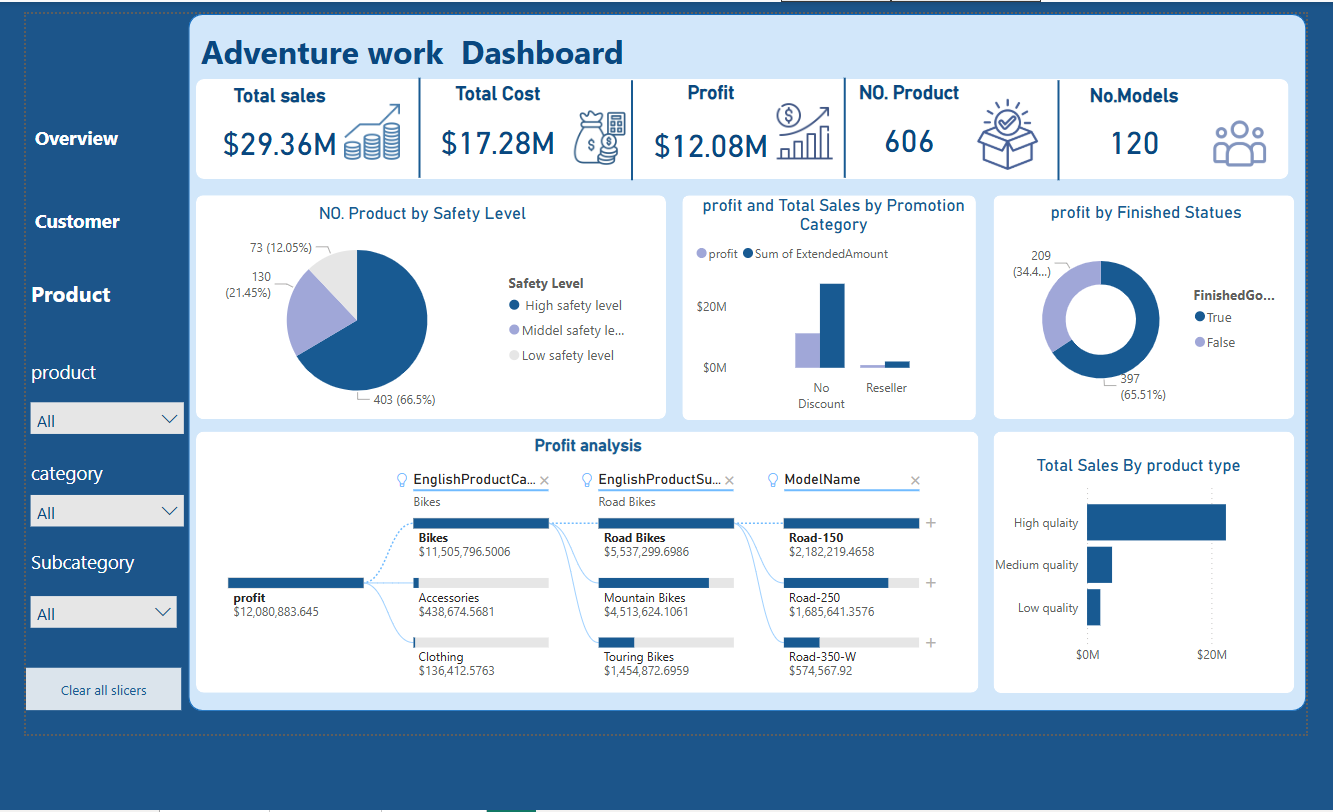

The dashboard page shown, as its layout file describes it:
{"tool":"powerbi","page":{"name":"product ","canvas":[1280,720],"ordinal":2},"visuals":[{"type":"shape","box":[162.6,0,1117.7,697],"z":0},{"type":"textbox","box":[170,11.1,466.7,53.3],"z":1000},{"type":"shape","box":[656.8,181.2,293.8,225],"z":2000},{"type":"textbox","box":[4.3,106.4,108.5,43.6],"z":3000},{"type":"textbox","box":[3.2,188.3,144.7,42.6],"z":4000},{"type":"textbox","box":[0,259.6,131.9,40.4],"z":5000},{"type":"slicer","title":"Category ","fields":{"Values":["DimProductCategory.EnglishProductCategoryName"]},"box":[0,476.8,162.3,53],"z":6000},{"type":"actionButton","box":[0,98.9,154.3,58.5],"z":7000},{"type":"actionButton","box":[0,180.9,154.3,58.5],"z":8000},{"type":"actionButton","box":[0,256.4,154.3,58.5],"z":9000},{"type":"textbox","box":[0,340.4,131.9,37.2],"z":10000},{"type":"textbox","box":[0,440.7,131.9,36.1],"z":11000},{"type":"textbox","box":[0,529.7,131.9,36.1],"z":12000},{"type":"slicer","title":"SubCategory ","fields":{"Values":["DimProductSubcategory.FrenchProductSubcategoryName"]},"box":[0,577.1,155.5,55.2],"z":13000},{"type":"slicer","title":"product ","fields":{"Values":["DimProduct.EnglishProductName"]},"box":[0,383.2,162.3,45.1],"z":14000},{"type":"shape","box":[170,65,1092.5,100],"z":15000},{"type":"card","title":"Total sales ","fields":{"Values":["Sum(FactInternetSales.SalesAmount)"]},"box":[182.5,70,142.5,95],"z":16000},{"type":"card","title":"Total Cost ","fields":{"Values":["Sum(FactInternetSales.TotalProductCost)"]},"box":[393.8,68.5,156.5,95.4],"z":17000},{"type":"shape","box":[170,181.2,470,223.8],"z":18000},{"type":"card","title":"Profit ","fields":{"Values":["FactInternetSales.profit"]},"box":[591.2,67.5,187.5,102.5],"z":19000},{"type":"card","title":"NO. Product ","fields":{"Values":["CountNonNull(DimProduct.ProductKey)"]},"box":[787.5,67.5,191.2,93.8],"z":20000},{"type":"card","title":"No.Models","fields":{"Values":["Count(DimProduct.ModelName)"]},"box":[1012.5,70,191.2,91.2],"z":21000},{"type":"shape","box":[382.7,63.6,22,100.3],"z":22000},{"type":"shape","box":[595.4,66,22,100.3],"z":23000},{"type":"shape","box":[808.1,63.8,22.5,100],"z":24000},{"type":"shape","box":[1021.2,66.2,22.5,100],"z":25000},{"type":"image","box":[941.2,80,81.2,81.2],"z":26000},{"type":"image","box":[533.2,90.5,80.7,67.3],"z":27000},{"type":"image","box":[737.5,82.5,82.5,70],"z":28000},{"type":"image","box":[1182.5,97.5,62.5,63.8],"z":29000},{"type":"shape","box":[170,417.5,782.5,261.2],"z":30000},{"type":"shape","box":[967.3,181,300.8,223.8],"z":31000},{"type":"shape","box":[967.3,417.1,300.8,261.7],"z":32000},{"type":"decompositionTreeVisual","title":"Profit analysis ","fields":{"Analyze":["FactInternetSales.profit"],"ExplainBy":["DimProductCategory.EnglishProductCategoryName","DimProductSubcategory.EnglishProductSubcategoryName","DimProduct.ModelName","DimProduct.EnglishProductName"]},"box":[182.2,420.7,759.4,254.3],"z":33000},{"type":"pieChart","title":"NO. Product by Safety Level","fields":{"Category":["DimProduct.Safety Level"],"Y":["Count(DimProduct.ProductKey)"]},"box":[175,188.8,442.5,216.2],"z":34000},{"type":"donutChart","title":"profit  by Finished Statues ","fields":{"Category":["DimProduct.FinishedGoodsFlag"],"Y":["Count(DimProduct.ProductKey)"]},"box":[977.5,187.5,285,217.5],"z":35000},{"type":"clusteredColumnChart","title":"profit and Total Sales  by Promotion Category","fields":{"Category":["DimPromotion.EnglishPromotionCategory"],"Y":["FactInternetSales.profit","Sum(FactInternetSales.ExtendedAmount)"]},"box":[665,181.2,285,223.8],"z":36000},{"type":"actionButton","box":[0,654.2,155.3,42.8],"z":37000},{"type":"barChart","title":"Total Sales By product type ","fields":{"Category":["DimProduct.Class"],"Y":["Sum(FactInternetSales.SalesAmount)"]},"box":[956.2,441.2,312.5,217.5],"z":38000},{"type":"image","box":[310.6,85.6,72.1,66],"z":39000}]}

Visuals, with their boxes on the page's 1280x720 design canvas (x1, y1, x2, y2). These are canvas units, not pixel positions in the 1333x812 screenshot, which may show the page scaled, cropped or inside an application window:
shape: [left=163, top=0, right=1280, bottom=697]
textbox: [left=170, top=11, right=637, bottom=64]
shape: [left=657, top=181, right=951, bottom=406]
textbox: [left=4, top=106, right=113, bottom=150]
textbox: [left=3, top=188, right=148, bottom=231]
textbox: [left=0, top=260, right=132, bottom=300]
"Category " slicer: [left=0, top=477, right=162, bottom=530]
actionButton: [left=0, top=99, right=154, bottom=157]
actionButton: [left=0, top=181, right=154, bottom=239]
actionButton: [left=0, top=256, right=154, bottom=315]
textbox: [left=0, top=340, right=132, bottom=378]
textbox: [left=0, top=441, right=132, bottom=477]
textbox: [left=0, top=530, right=132, bottom=566]
"SubCategory " slicer: [left=0, top=577, right=156, bottom=632]
"product " slicer: [left=0, top=383, right=162, bottom=428]
shape: [left=170, top=65, right=1262, bottom=165]
"Total sales " card: [left=182, top=70, right=325, bottom=165]
"Total Cost " card: [left=394, top=68, right=550, bottom=164]
shape: [left=170, top=181, right=640, bottom=405]
"Profit " card: [left=591, top=68, right=779, bottom=170]
"NO. Product " card: [left=788, top=68, right=979, bottom=161]
"No.Models" card: [left=1012, top=70, right=1204, bottom=161]
shape: [left=383, top=64, right=405, bottom=164]
shape: [left=595, top=66, right=617, bottom=166]
shape: [left=808, top=64, right=831, bottom=164]
shape: [left=1021, top=66, right=1044, bottom=166]
image: [left=941, top=80, right=1022, bottom=161]
image: [left=533, top=90, right=614, bottom=158]
image: [left=738, top=82, right=820, bottom=152]
image: [left=1182, top=98, right=1245, bottom=161]
shape: [left=170, top=418, right=952, bottom=679]
shape: [left=967, top=181, right=1268, bottom=405]
shape: [left=967, top=417, right=1268, bottom=679]
"Profit analysis " decompositionTreeVisual: [left=182, top=421, right=942, bottom=675]
"NO. Product by Safety Level" pieChart: [left=175, top=189, right=618, bottom=405]
"profit  by Finished Statues " donutChart: [left=978, top=188, right=1262, bottom=405]
"profit and Total Sales  by Promotion Category" clusteredColumnChart: [left=665, top=181, right=950, bottom=405]
actionButton: [left=0, top=654, right=155, bottom=697]
"Total Sales By product type " barChart: [left=956, top=441, right=1269, bottom=659]
image: [left=311, top=86, right=383, bottom=152]
